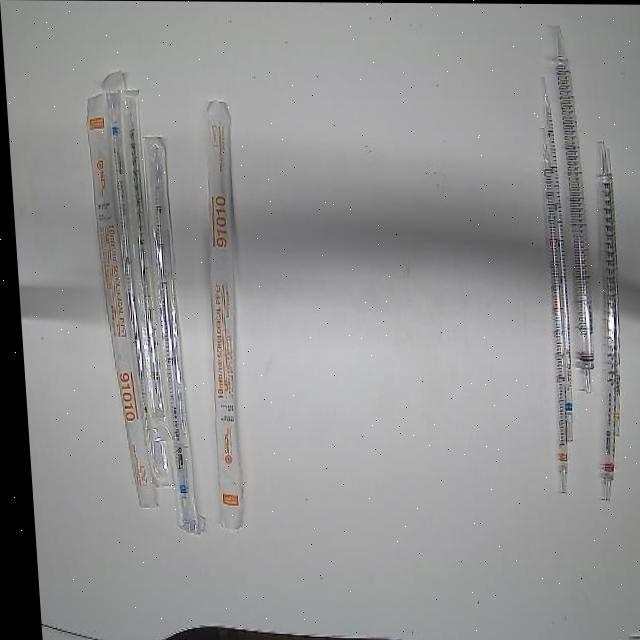Serelogical Pipet 1 mL: (593, 143, 625, 438)
Serelogical Pipet 10 mL: (82, 88, 156, 514), (187, 92, 254, 533), (531, 127, 570, 495)
Serelogical Pipet 2 mL: (116, 85, 170, 443)
Serelogical Pipet 25 mL: (576, 138, 624, 509)
Serelogical Pipet 5 mL: (139, 130, 202, 539), (97, 66, 156, 471), (538, 74, 571, 446)
Serelogical Pipet 50 mL: (547, 22, 598, 393)
